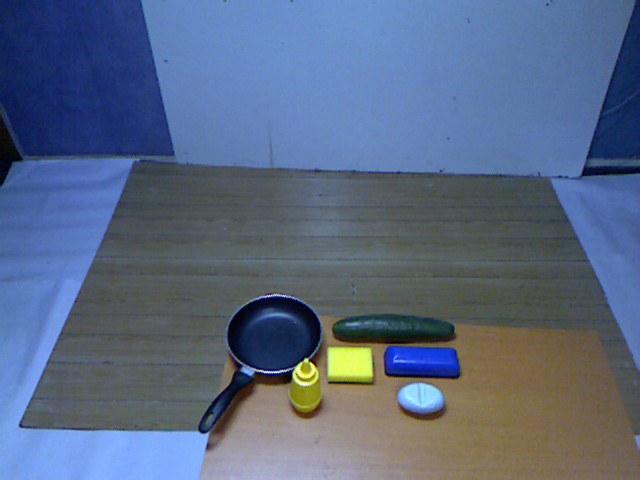borrador: (381, 342, 465, 381)
esponja: (320, 342, 376, 384)
jabon: (395, 378, 447, 419)
mostaza: (287, 355, 326, 422)
pepino: (328, 310, 460, 346)
sarten: (194, 292, 331, 438)
